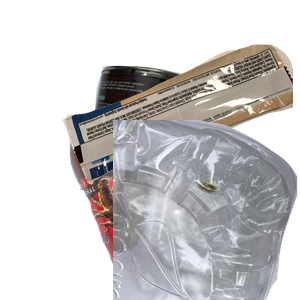glass: (65, 120, 300, 300)
metal: (78, 63, 266, 243)
plastic: (113, 120, 300, 300)
trash: (60, 42, 300, 219)
